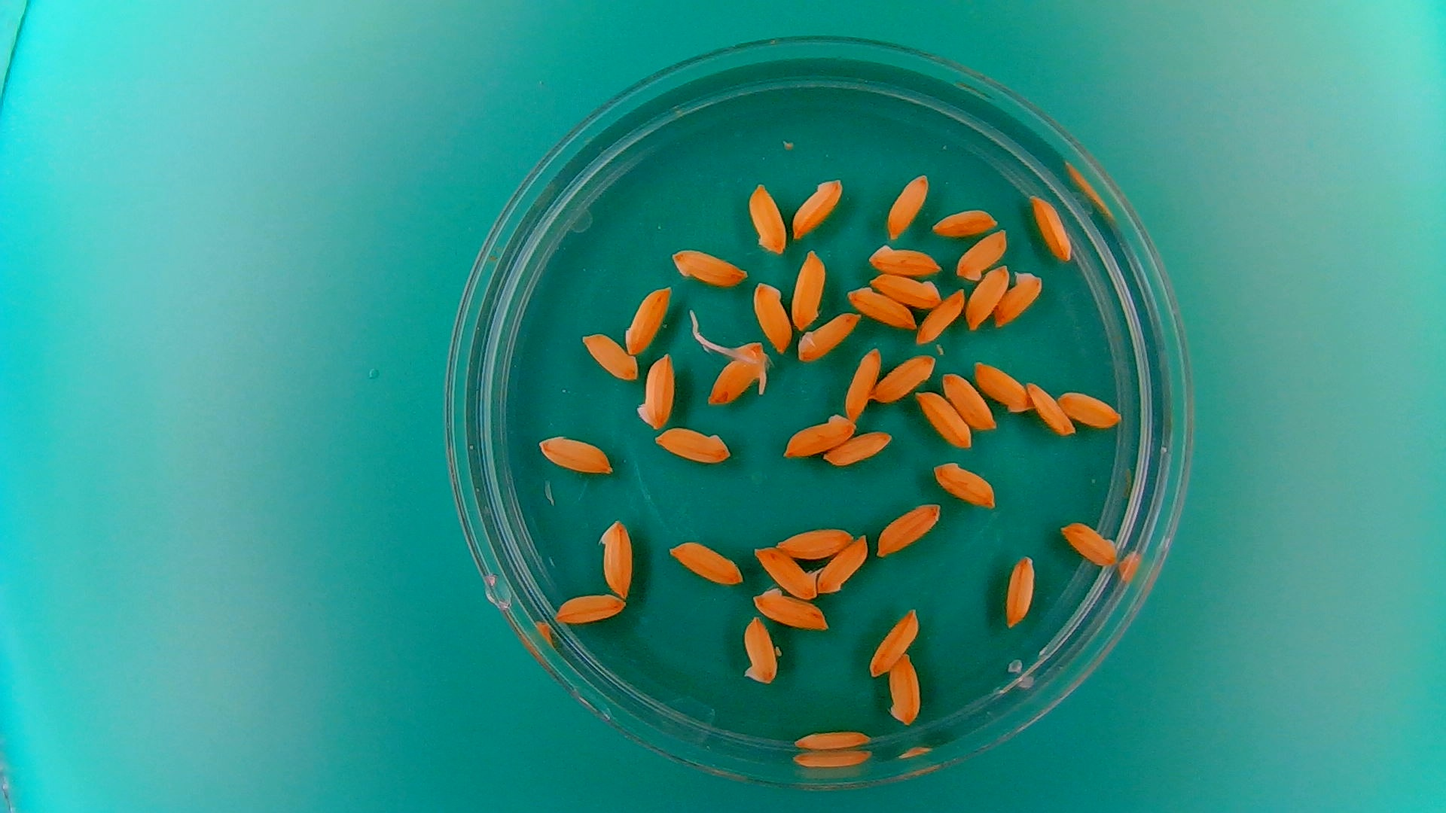no: (746, 581, 834, 644), (874, 500, 942, 559), (866, 604, 920, 678), (666, 537, 745, 586), (780, 409, 857, 459), (869, 351, 938, 405), (913, 388, 973, 450), (795, 309, 862, 364), (621, 283, 672, 355), (634, 349, 678, 431), (535, 431, 615, 476), (790, 175, 845, 240), (972, 358, 1033, 416), (667, 245, 749, 288), (816, 531, 870, 596), (931, 458, 999, 509), (941, 369, 996, 431), (883, 171, 931, 242), (1028, 191, 1075, 263), (652, 423, 734, 464), (789, 245, 828, 330), (964, 263, 1011, 333), (578, 330, 641, 382), (597, 514, 635, 600), (1057, 518, 1122, 568), (844, 285, 916, 330), (746, 180, 788, 256), (915, 286, 968, 346), (843, 343, 883, 422), (751, 279, 792, 355), (1024, 377, 1075, 437), (994, 268, 1044, 329), (740, 612, 781, 686), (953, 228, 1008, 282), (1055, 388, 1124, 431), (886, 648, 923, 727), (776, 522, 854, 559), (1002, 550, 1038, 630), (824, 428, 895, 468), (552, 589, 628, 626), (865, 241, 944, 276), (868, 271, 942, 308), (790, 721, 872, 752), (930, 204, 1000, 238)
yes: (686, 306, 770, 409), (751, 540, 830, 601)
